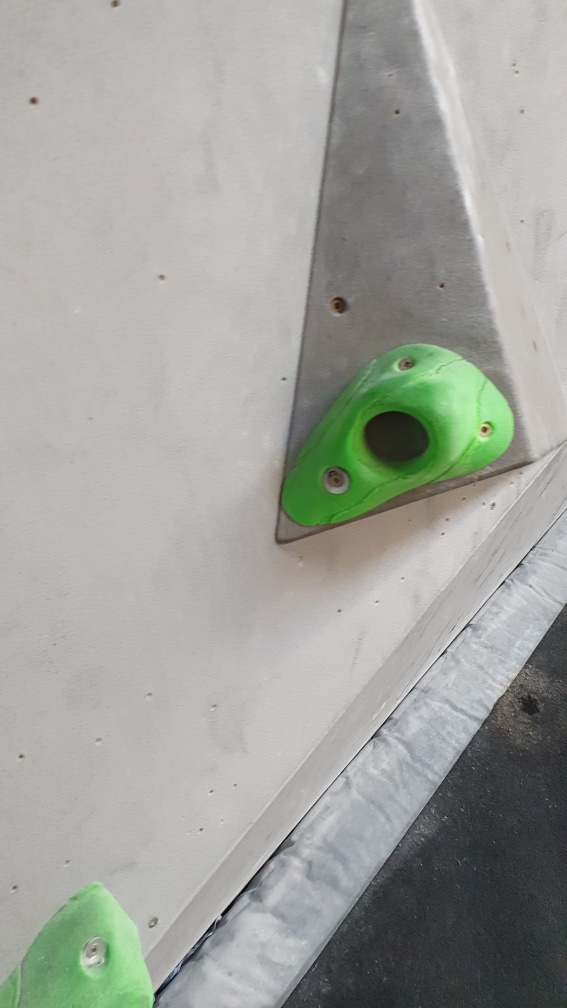Pocket: (280, 339, 516, 529)
